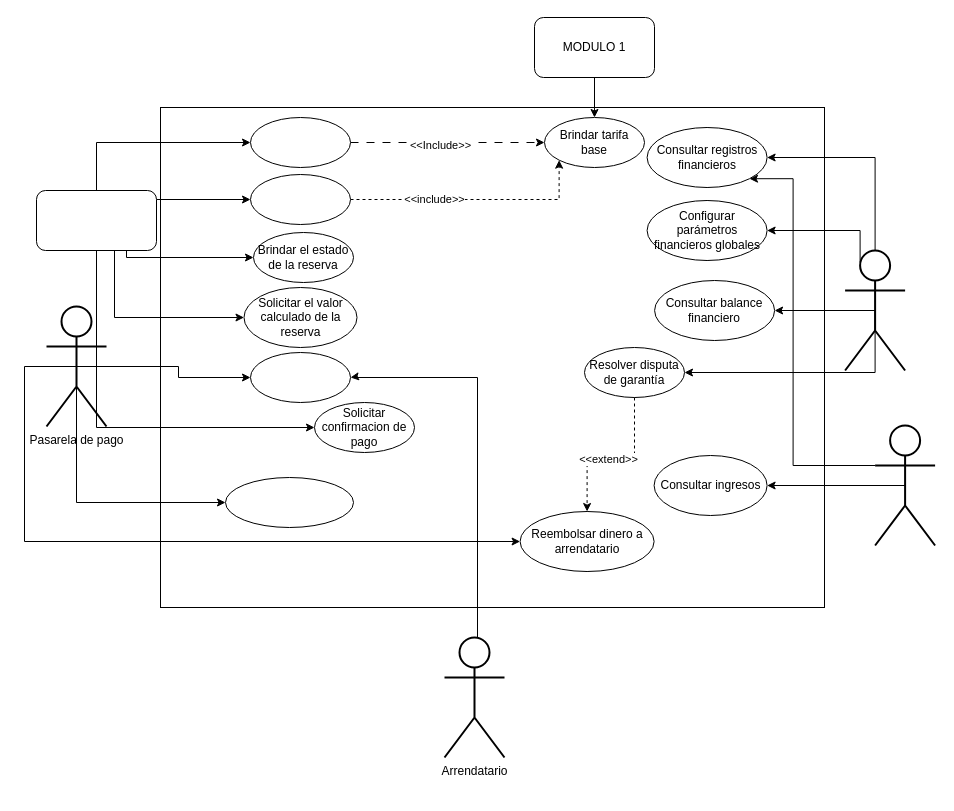
The diagram is 954 pixels wide and 811 high, and some of its shapes have lost their labels. Here are the shapes that lost their labels. From the top down, the centre of each, then its label:
point 300,142: Solicitar cotizacion para reserva
point 300,199: Brindar informacion de reserva
point 96,220: MODULO 2 (RESERVAS Y OPERACIONES)
point 875,310: Admin Financiero
point 300,377: Procesar cobro
point 289,502: Dispersar fondos de alquiler
point 905,485: Propietario
